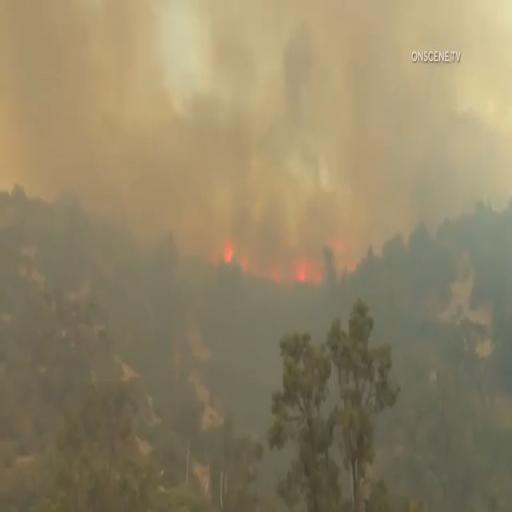smoke: (14, 2, 400, 176)
